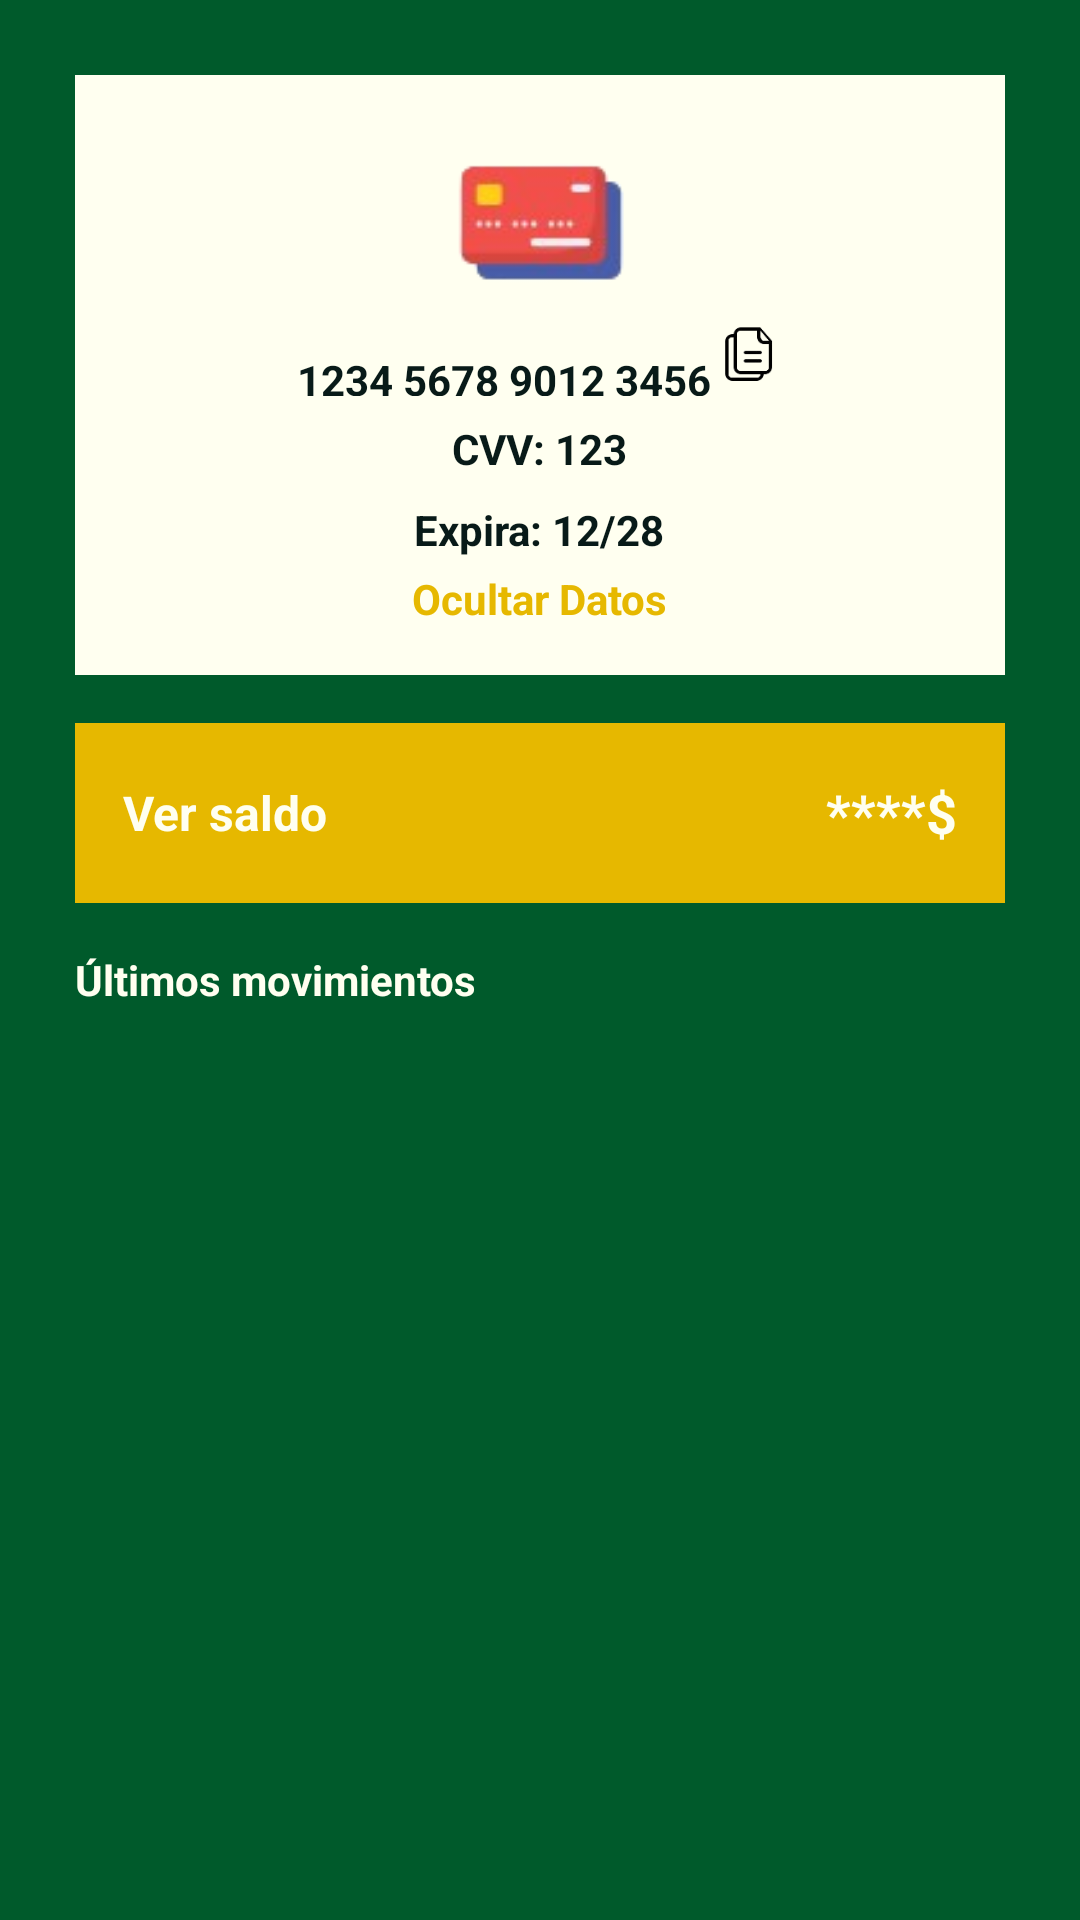

Locate icon controls on the screen. Image size 1080px×1920px, boxes as (x1, y1, x2, y2).
iconocopiar: (725, 327, 772, 381)
iconotarjeta: (459, 166, 623, 280)
